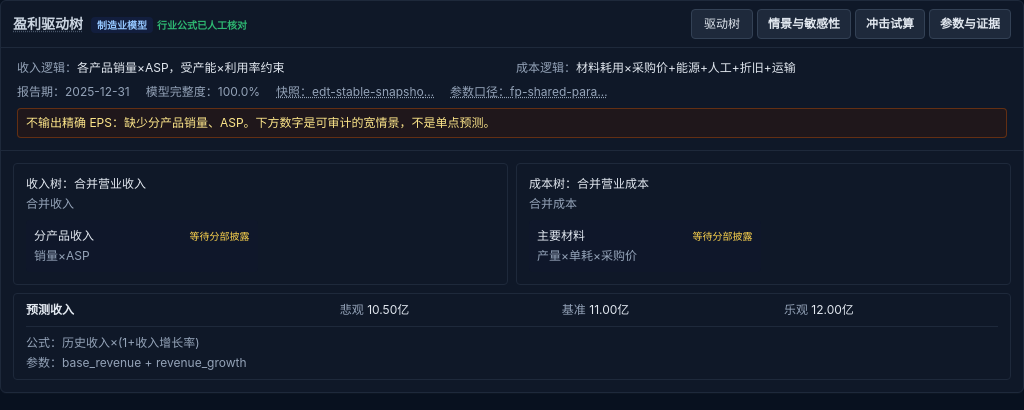
Test: 盈利驱动树 › 把用户冲击提交给财务桥接并显示逐项变化
The width and height of the screenshot is (1024, 410).
Expected: the text "制造业模型" is shown, [91,16,153,32]
Click the button "冲击试算": [890, 24] box [855,9,925,39]
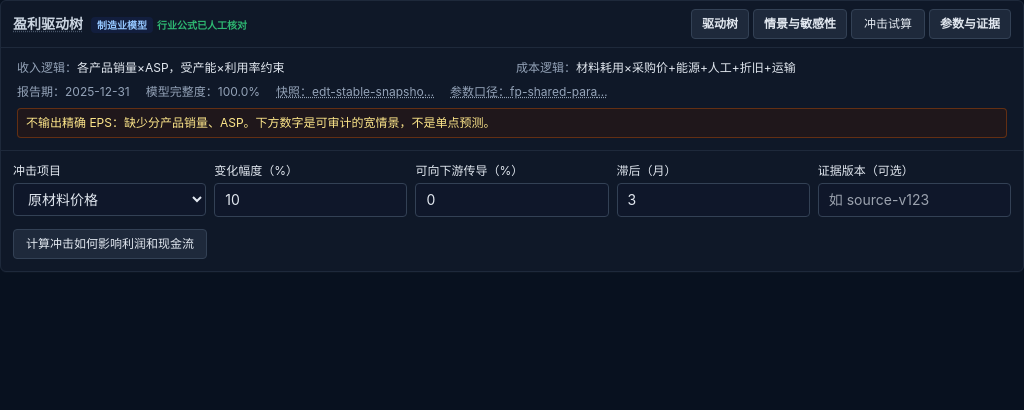
Click the button "计算冲击如何影响利润和现金流": [110, 244] box [13,229,207,259]
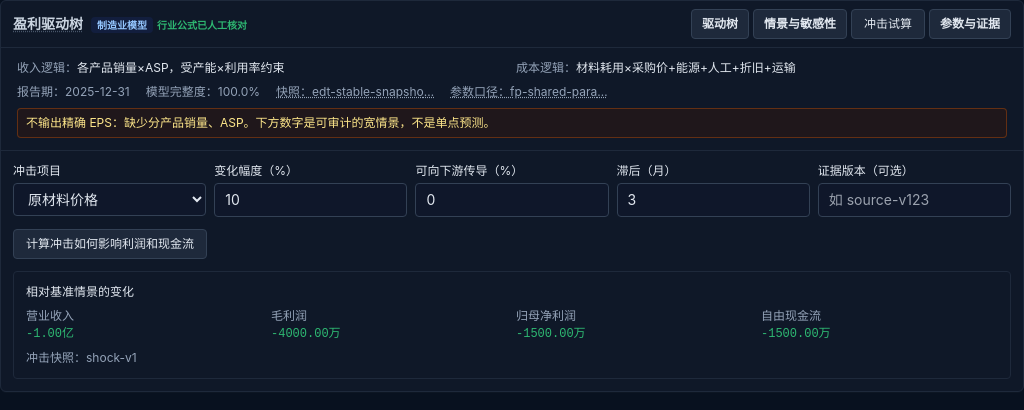
Expected: the text "相对基准情景的变化" is shown, [26,284,134,299]
Expected: the text "冲击快照：shock-v1" is shown, [26,350,137,365]
